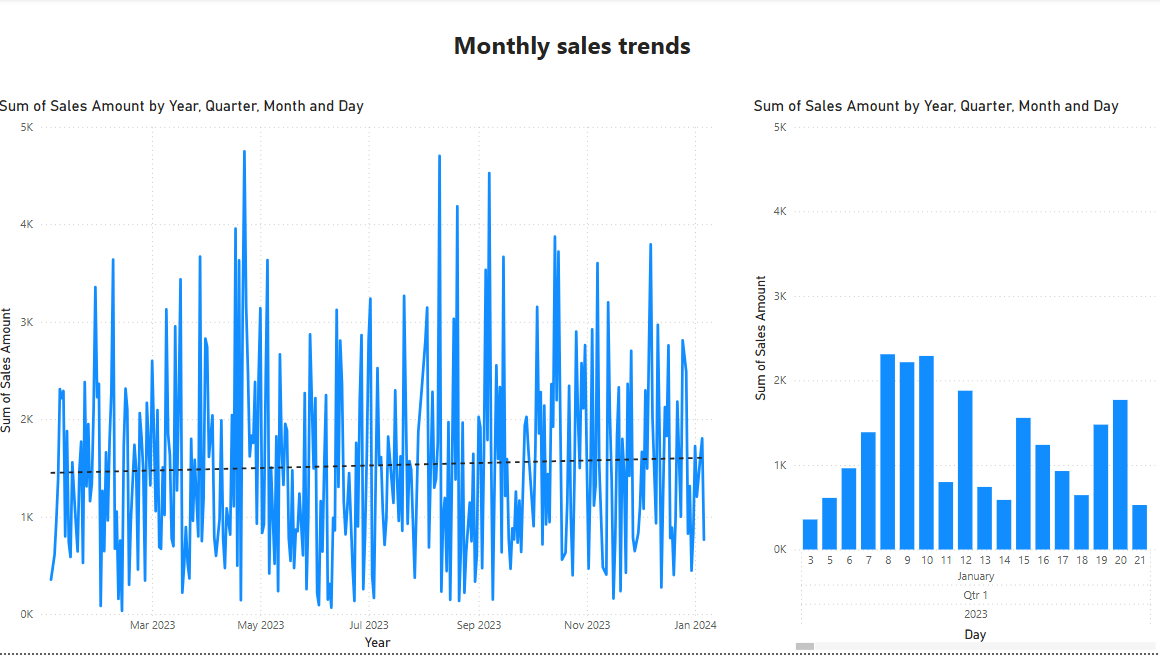

Layout of this report page (visuals, bound fields, positions):
{"tool":"powerbi","page":{"name":"Page 2","canvas":[1280,720],"ordinal":1},"visuals":[{"type":"lineChart","fields":{"Category":["Sheet1.Ship Date.Variation.Date Hierarchy.Year","Sheet1.Ship Date.Variation.Date Hierarchy.Quarter","Sheet1.Ship Date.Variation.Date Hierarchy.Month","Sheet1.Ship Date.Variation.Date Hierarchy.Day"],"Y":["Sum(Sheet1.Sales Amount)"]},"box":[0,108.2,808.6,612],"z":0},{"type":"clusteredColumnChart","fields":{"Y":["Sum(Sheet1.Sales Amount)"],"Category":["Sheet1.Ship Date.Variation.Date Hierarchy.Year","Sheet1.Ship Date.Variation.Date Hierarchy.Quarter","Sheet1.Ship Date.Variation.Date Hierarchy.Month","Sheet1.Ship Date.Variation.Date Hierarchy.Day"]},"box":[828.5,108.2,451.6,612],"z":1000},{"type":"textbox","box":[459,27.4,349.6,65.9],"z":2000}]}

Visuals, with their boxes in screenshot pixels (x1, y1, x2, y2), scaled from the page's 1280x720 canvas onto the 1160x660 screenshot:
lineChart - Sheet1.Ship Date.Variation.Date Hierarchy.Year x Sheet1.Ship Date.Variation.Date Hierarchy.Quarter: (0, 99, 733, 659)
clusteredColumnChart - Sum(Sheet1.Sales Amount) x Sheet1.Ship Date.Variation.Date Hierarchy.Year: (751, 99, 1159, 659)
textbox: (416, 25, 733, 86)
